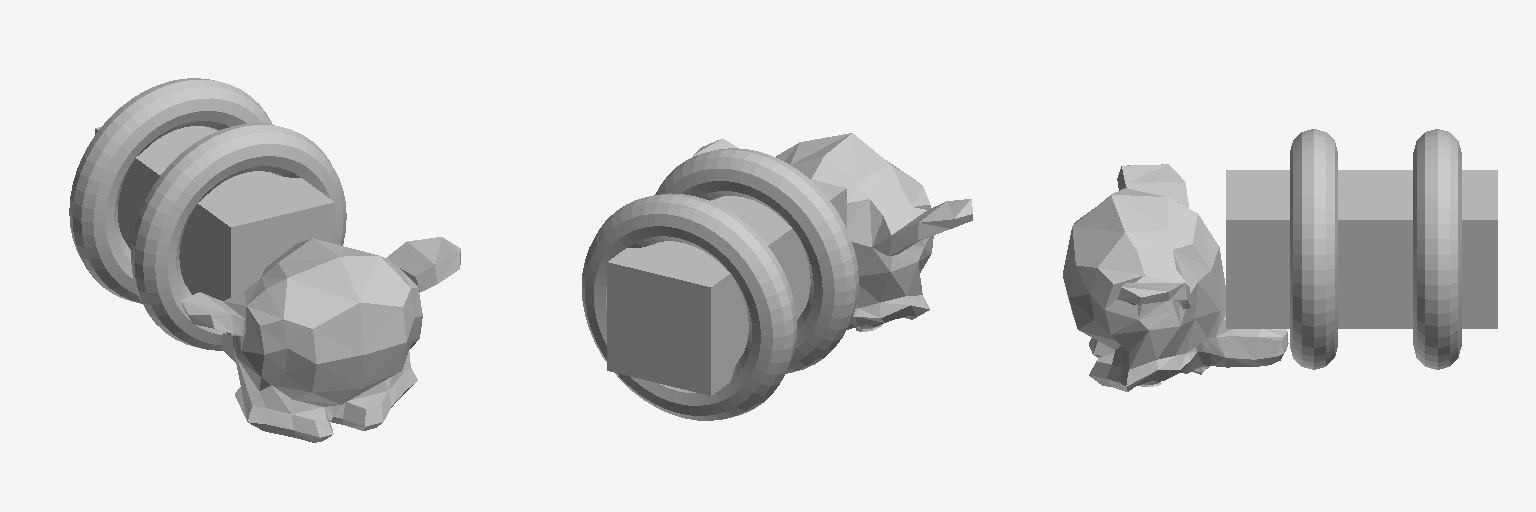
Rendered from multimesh.obj.
3 views of the same model, side by side, from view 1: azimuth 30°, elevation 25°; view 2: azimuth 150°, elevation 25°; view 3: azimuth 270°, elevation 25° (orthographic).
Visible parts, largest first — view 1: Suzanne, Cube, Torus.001, Torus; view 2: Cube, Torus, Suzanne, Torus.001; view 3: Suzanne, Cube, Torus, Torus.001.
Boxes of the visible parts, x1=… form: Suzanne: x1=181, y1=237, x2=460, y2=442; Cube: x1=95, y1=126, x2=334, y2=335; Torus.001: x1=131, y1=123, x2=346, y2=350; Torus: x1=69, y1=78, x2=272, y2=303; Cube: x1=607, y1=179, x2=846, y2=395; Torus: x1=582, y1=193, x2=796, y2=420; Suzanne: x1=693, y1=133, x2=972, y2=331; Torus.001: x1=655, y1=148, x2=858, y2=373; Suzanne: x1=1063, y1=164, x2=1288, y2=391; Cube: x1=1226, y1=170, x2=1497, y2=328; Torus: x1=1413, y1=129, x2=1461, y2=369; Torus.001: x1=1290, y1=129, x2=1337, y2=369.
Bounding box in the file's own units: 2.04 × 1.66 × 2.83.